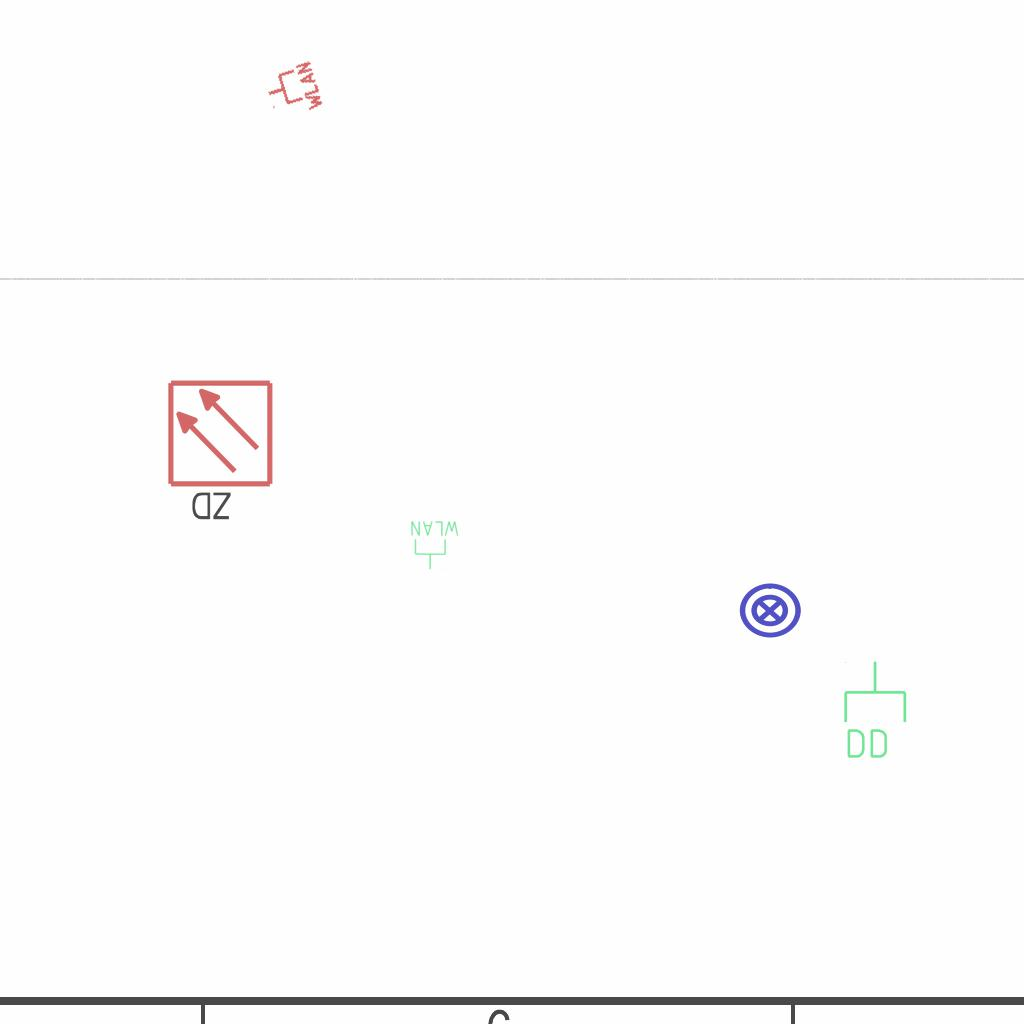Datenanschluss_zweifach: (840, 659, 909, 762)
Taster_beleuchtet: (737, 578, 803, 644)
WLAN: (260, 58, 326, 124), (409, 519, 461, 571)
ZD_Melder_in_Zwischendecke_mit_Revisionsoeffnung_mind_40_x_40_cm: (165, 378, 279, 527)
